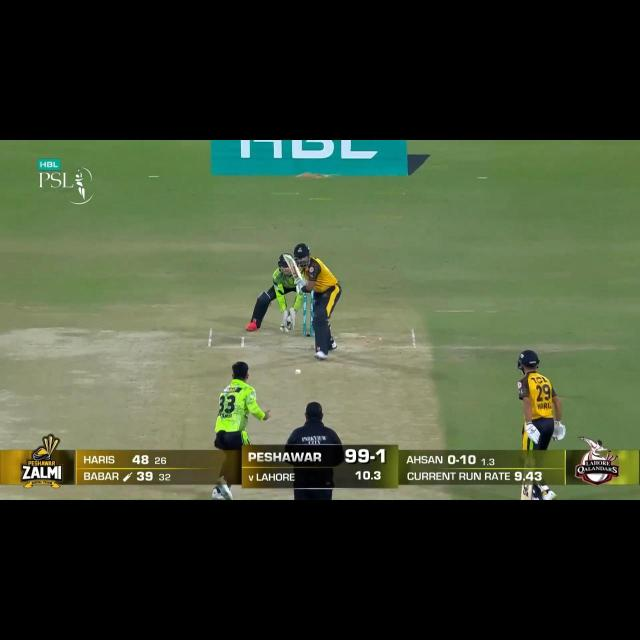bat: (282, 255, 302, 280), (519, 484, 534, 500)
toe: (280, 254, 296, 263), (518, 494, 531, 499)
